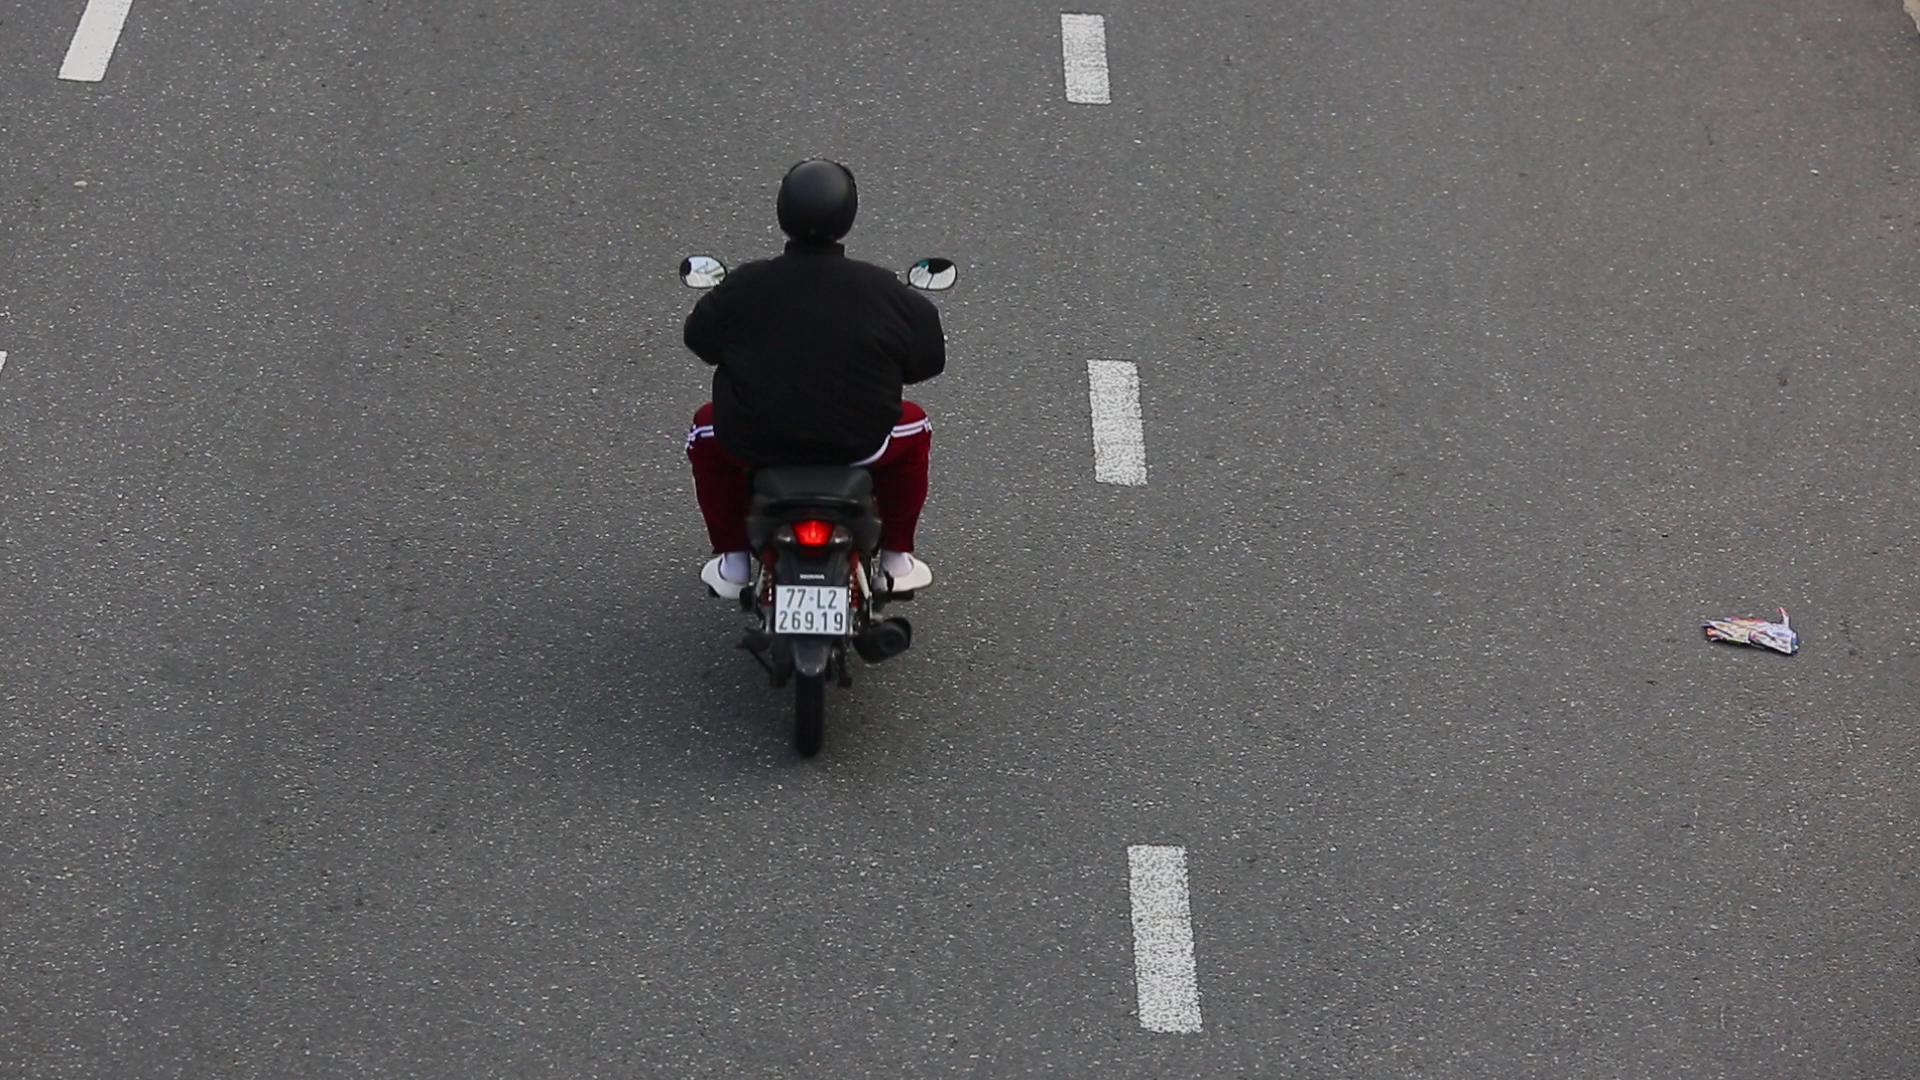motobike: (650, 141, 969, 791)
